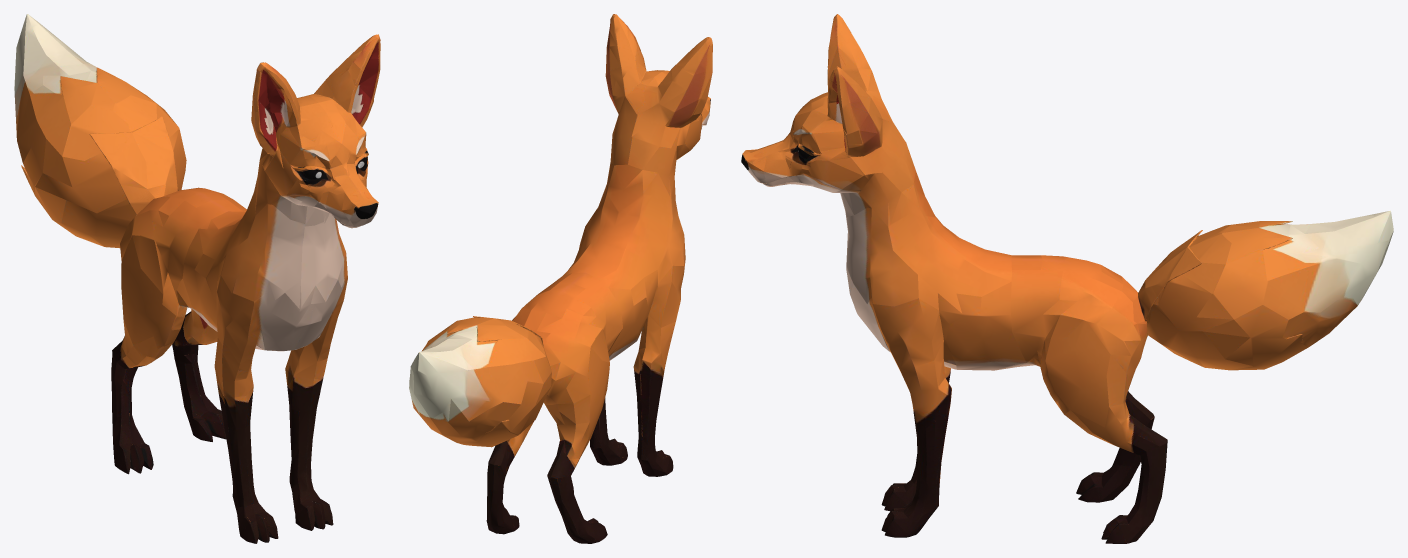
Rendered from skill-problem-solving.glb.
3 views of the same model, side by side, from view 1: azimuth 30°, elevation 25°; view 2: azimuth 150°, elevation 25°; view 3: azimuth 270°, elevation 25° (orthographic). The views are drawn at different scales.
Bounding box in the file's own units: 0.4254 × 1.54 × 1.9.
Materials: 1 (1 with a texture image).
